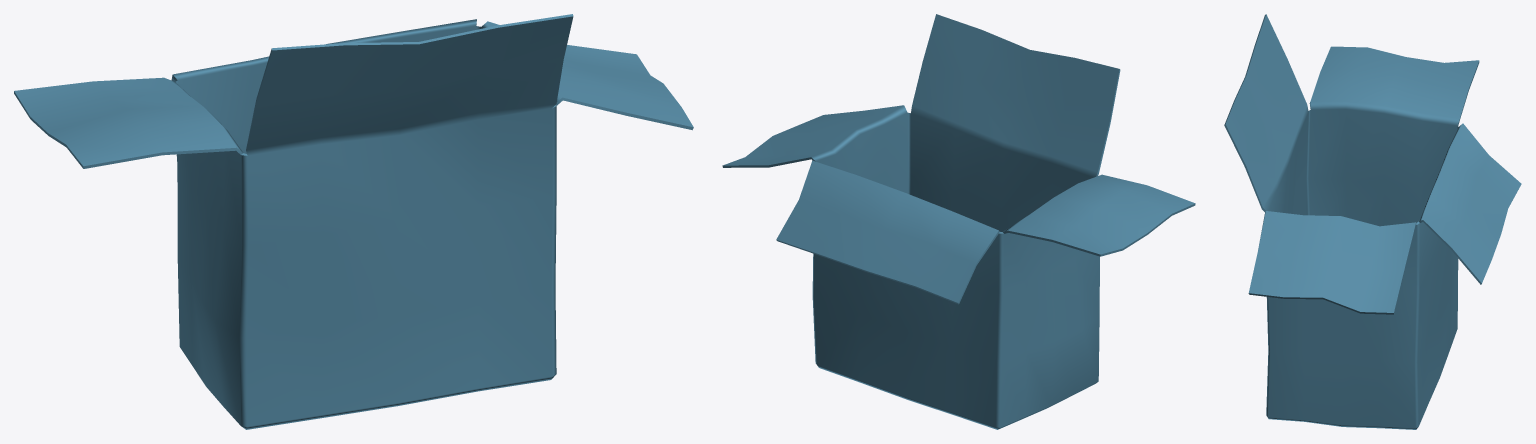
The model's file is GJ_Decor_Box_02.fbx.
The picture shows the model from 3 angles, left to right: view 1: azimuth 30°, elevation 25°; view 2: azimuth 150°, elevation 25°; view 3: azimuth 270°, elevation 25°; orthographic projection. The views are drawn at different scales.
Visible parts, largest first — view 1: GJ_Decor_Box_02; view 2: GJ_Decor_Box_02; view 3: GJ_Decor_Box_02.
Boxes of the visible parts, left/top/right/bottom form: GJ_Decor_Box_02: left=14, top=14, right=693, bottom=429; GJ_Decor_Box_02: left=722, top=14, right=1195, bottom=429; GJ_Decor_Box_02: left=1224, top=14, right=1521, bottom=429.
Bounding box in the file's own units: 6.99 × 4.56 × 4.02.
